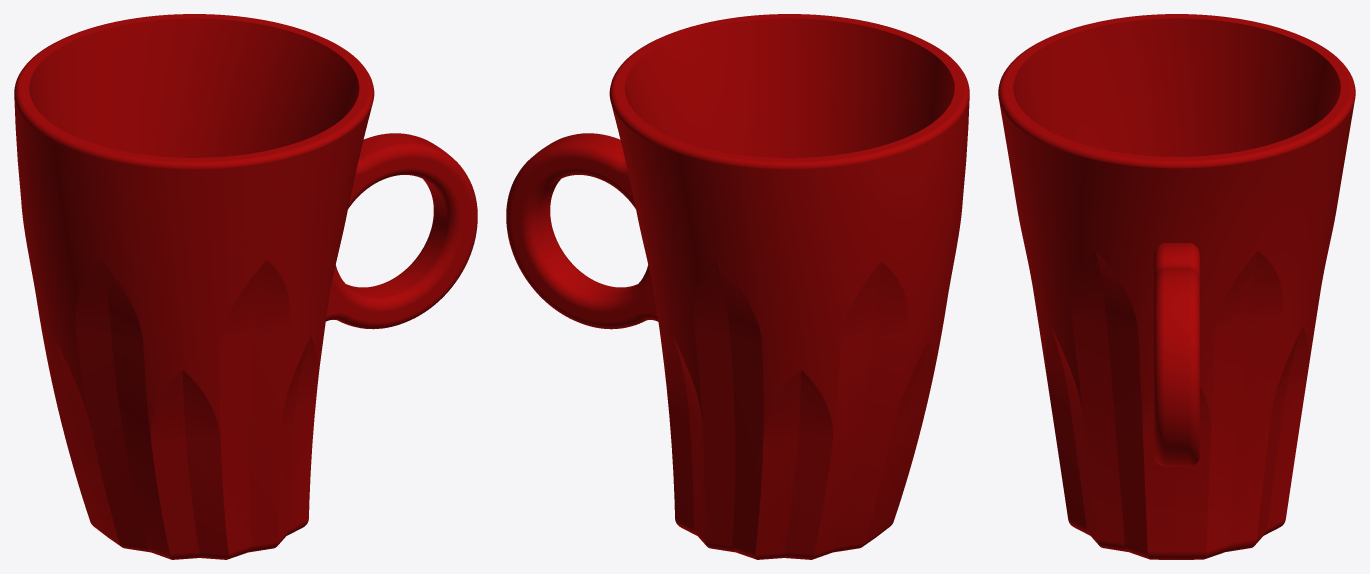
File: CM-MUG035B.glb
3 views of the same model, side by side, from view 1: azimuth 30°, elevation 25°; view 2: azimuth 150°, elevation 25°; view 3: azimuth 270°, elevation 25° (orthographic).
Bounding box in the file's own units: 0.086 × 0.082 × 0.062.
